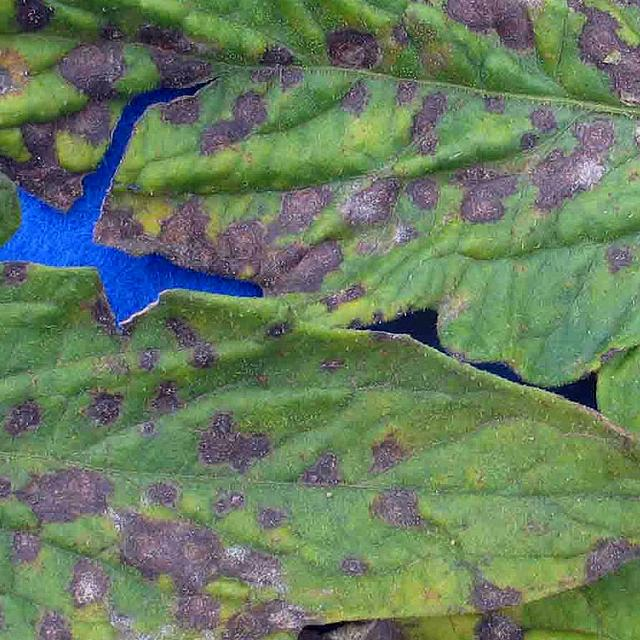Tomato Septoria leaf spot: (0, 130, 640, 640), (0, 0, 640, 476), (0, 438, 640, 640)
